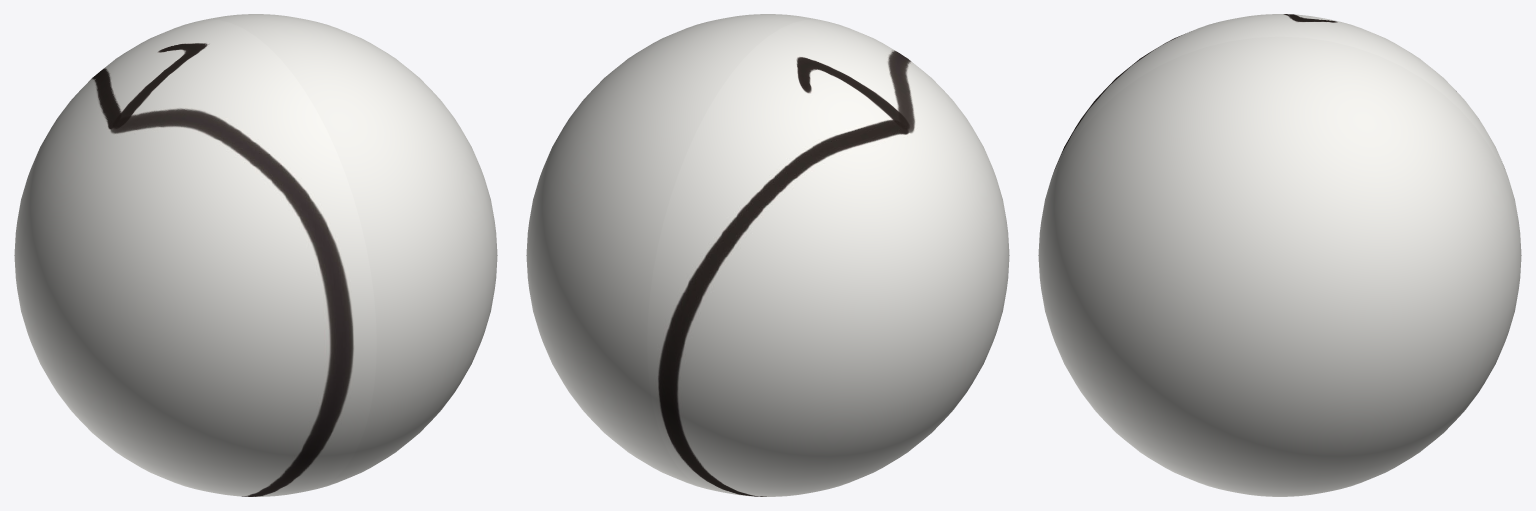
The picture shows the model from 3 angles, left to right: view 1: azimuth 30°, elevation 25°; view 2: azimuth 150°, elevation 25°; view 3: azimuth 270°, elevation 25°; orthographic projection.
Parts seen in each view (by area): view 1: 球体.1; view 2: 球体.1; view 3: 球体.1.
Part boxes in pixels (<box>): 球体.1: <box>14,14,497,496</box>; 球体.1: <box>526,14,1009,496</box>; 球体.1: <box>1038,14,1521,496</box>.
Bounding box in the file's own units: 2 × 2 × 2.
